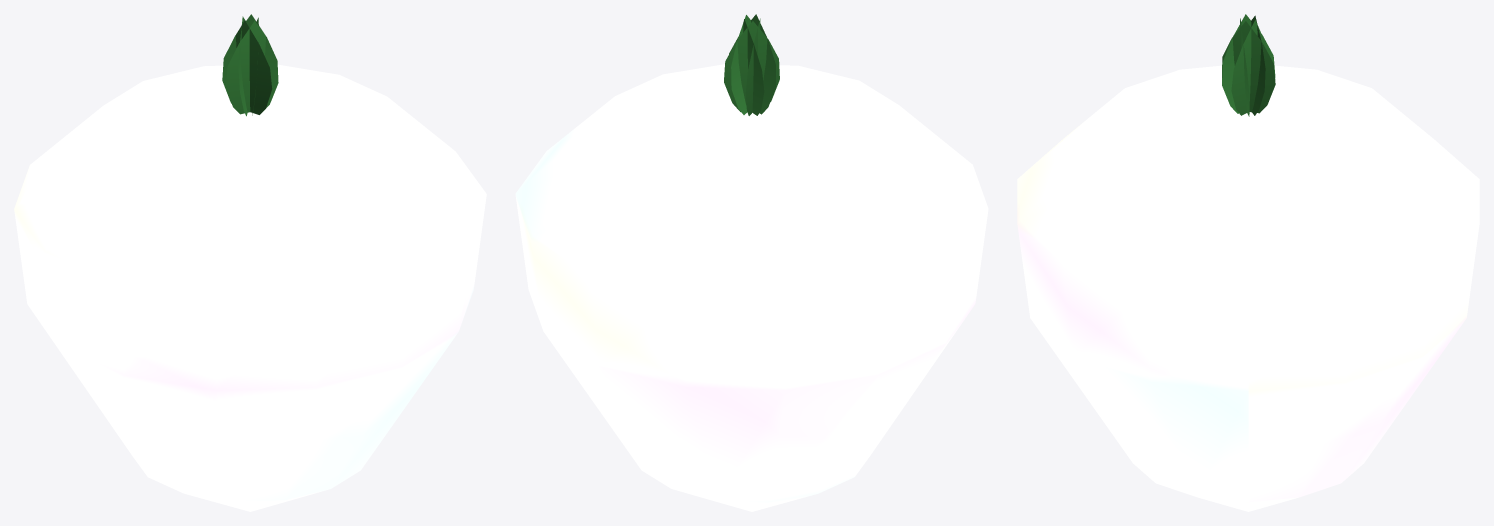
The model's file is fruit-strawberry-rainbow.gltf.
3 views of the same model, side by side, from view 1: azimuth 30°, elevation 25°; view 2: azimuth 150°, elevation 25°; view 3: azimuth 270°, elevation 25° (orthographic).
Bounding box in the file's own units: 0.252 × 0.29 × 0.2457.
